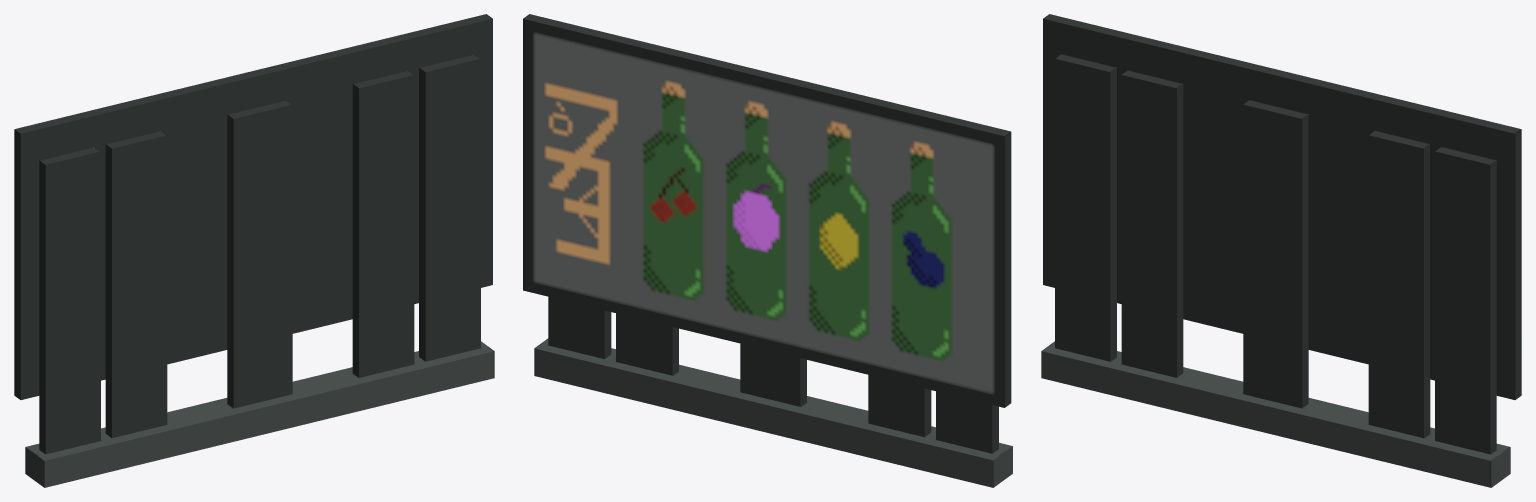
The model's file is reklama_07.dae.
3 renders of one model, left to right at view 1: azimuth 30°, elevation 25°; view 2: azimuth 150°, elevation 25°; view 3: azimuth 330°, elevation 25°, orthographic. The views are drawn at different scales.
Parts seen in each view (by area): view 1: Content; view 2: Content; view 3: Content.
Part boxes in pixels (bbox=[...]): Content: bbox=[14, 14, 494, 487]; Content: bbox=[523, 14, 1012, 487]; Content: bbox=[1041, 14, 1521, 487].
Bounding box in the file's own units: 128 × 90 × 9.
1 material, 1 textured.
